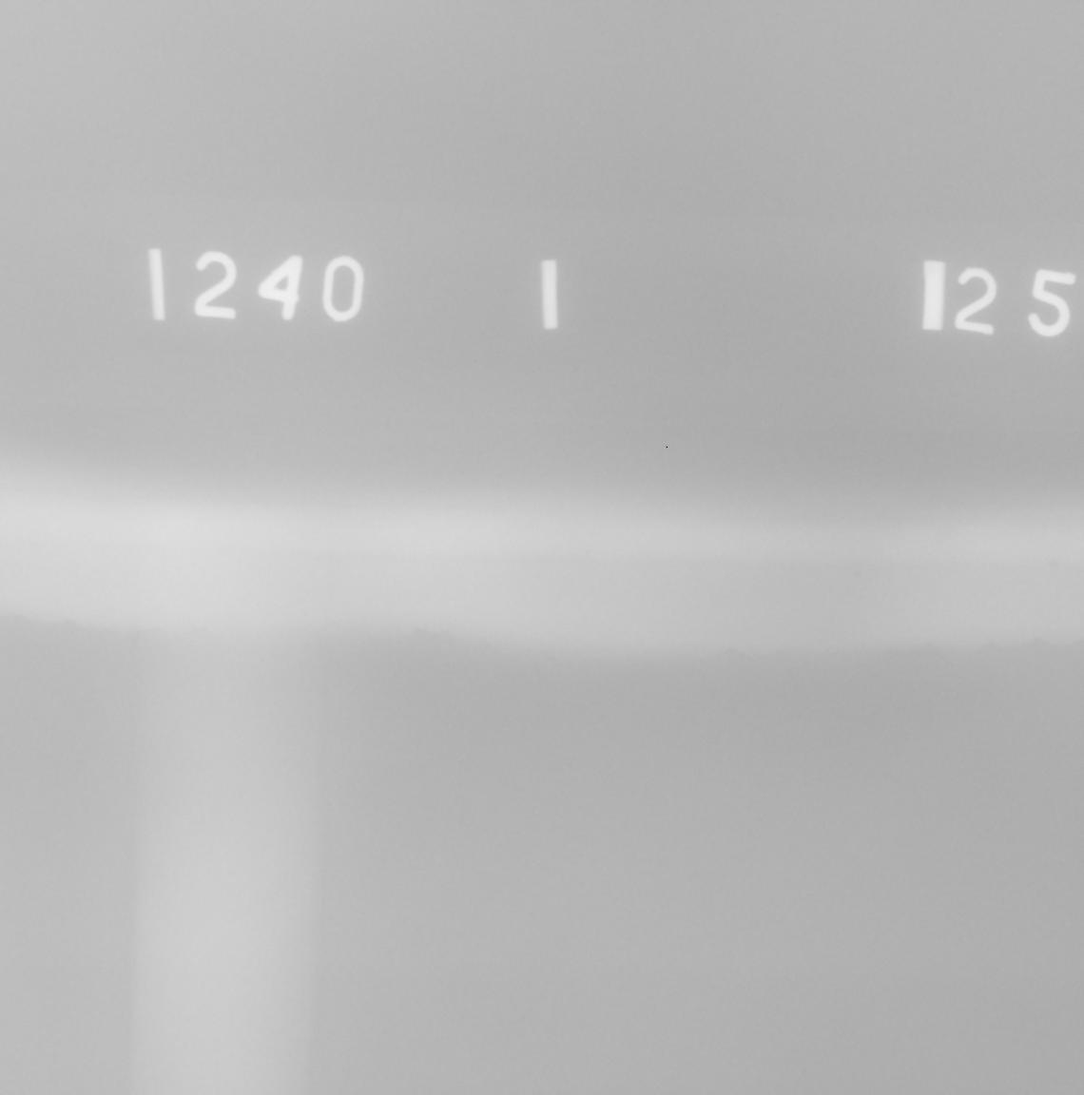Pore/Porosity: (1049, 560, 1059, 570), (585, 550, 591, 555), (855, 572, 860, 577)
